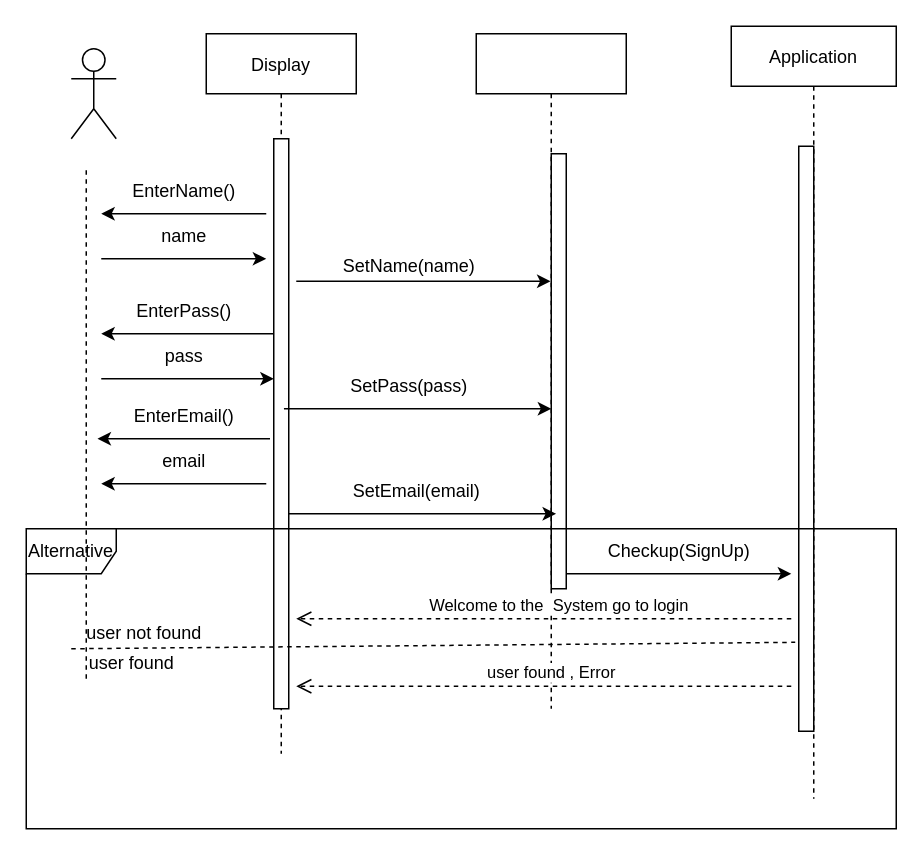
This 923x855 diagram has some shape labels left out. Here are the shapes that lost their labels. From the top down, the centre of each, then its label:
At [93,93]: "user".
At [550,370]: "SignUp".
